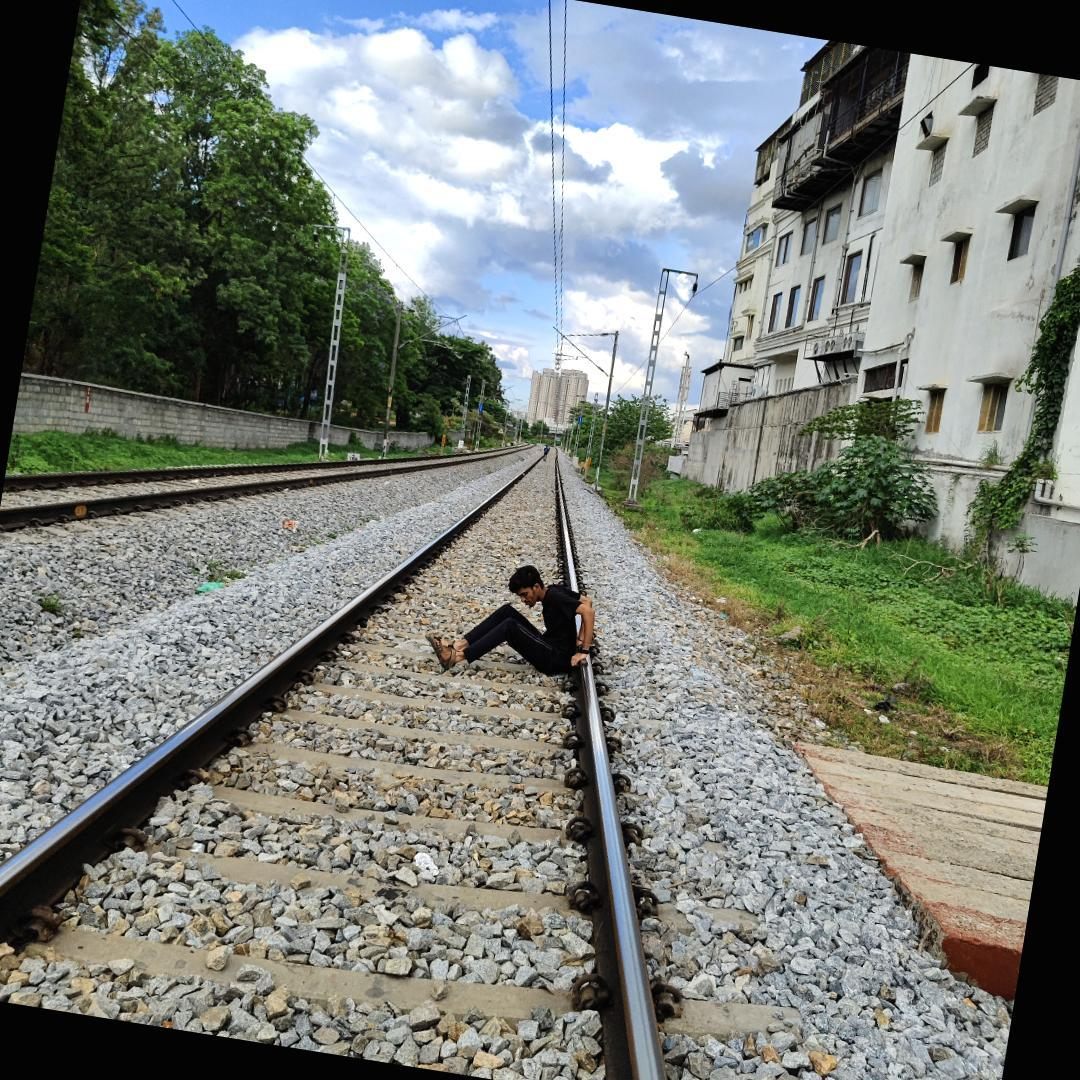sitting: (413, 544, 617, 697)
